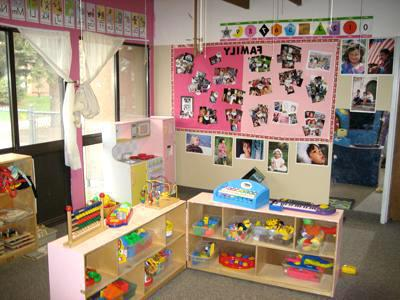Otro Obstaculo: (107, 115, 173, 204)
